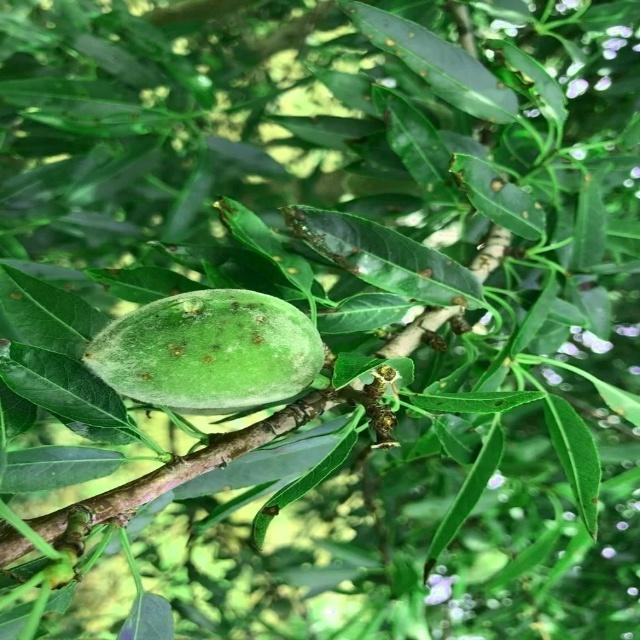leaf_spot: (68, 272, 330, 403), (272, 190, 500, 322), (438, 145, 558, 257)
